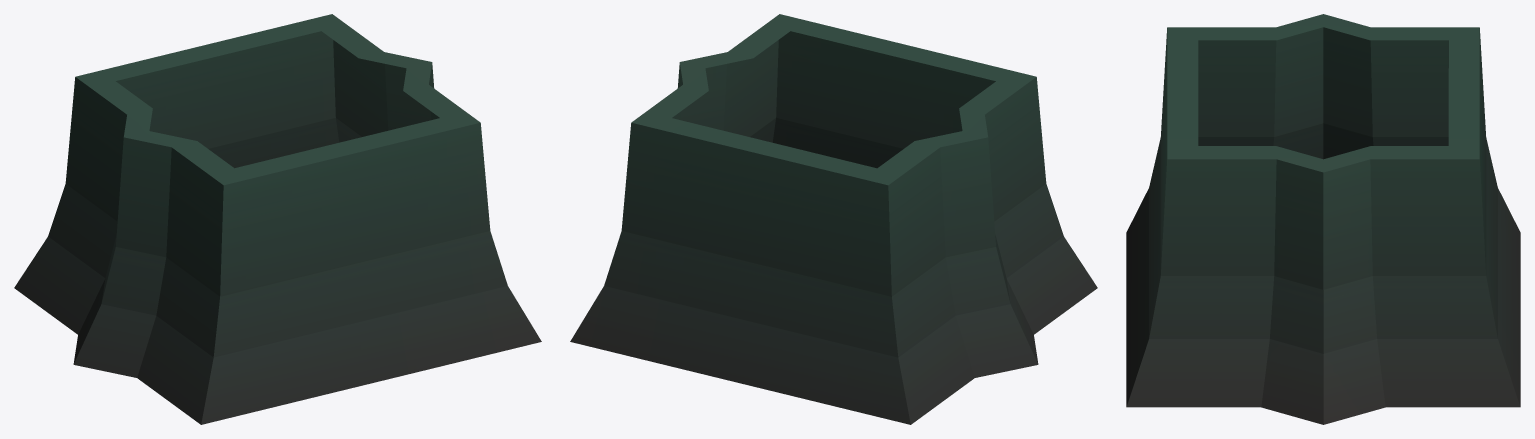
Rendered from SM_PillarBottom_01.fbx.
3 views of the same model, side by side, from view 1: azimuth 30°, elevation 25°; view 2: azimuth 150°, elevation 25°; view 3: azimuth 270°, elevation 25° (orthographic). The views are drawn at different scales.
Parts seen in each view (by area): view 1: SM_PillarBottom_01; view 2: SM_PillarBottom_01; view 3: SM_PillarBottom_01.
Boxes of the visible parts, box(x1,y1,x2,y2) form: SM_PillarBottom_01: box(14, 14, 541, 424); SM_PillarBottom_01: box(570, 14, 1097, 424); SM_PillarBottom_01: box(1126, 14, 1520, 424).
Size of the model in its own units: 398 by 200 by 315.
1 material, 1 textured.
